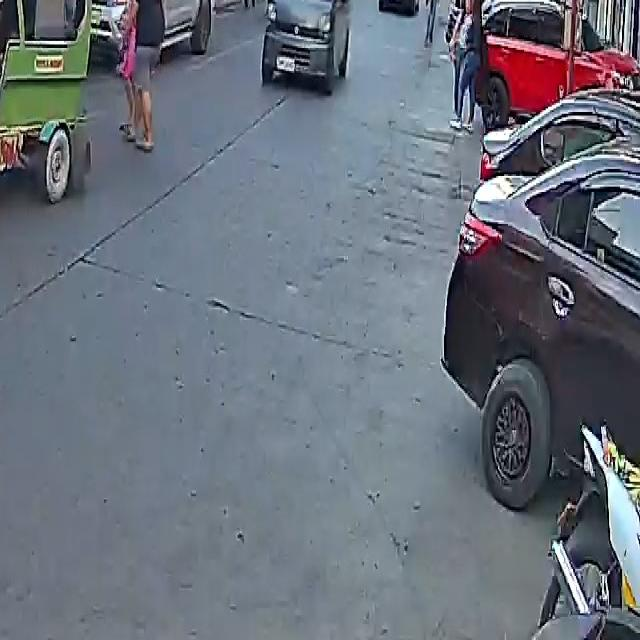car: (443, 76, 640, 528), (469, 0, 639, 130), (88, 0, 220, 66), (262, 0, 354, 87), (379, 0, 425, 12)
